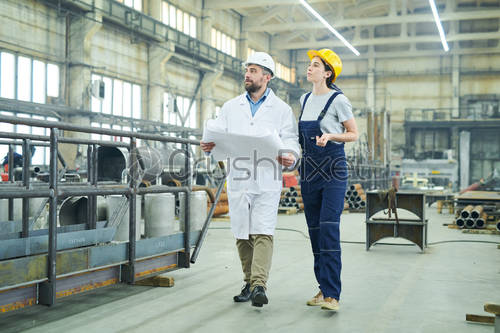person: (202, 51, 300, 305), (297, 49, 359, 313)
